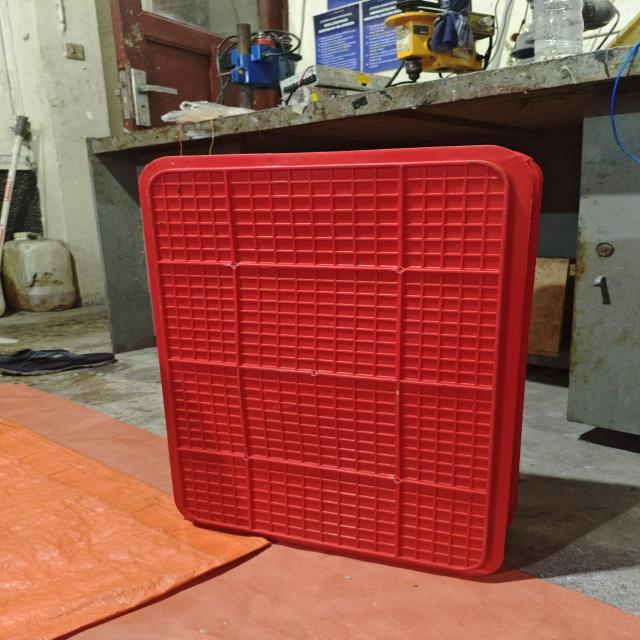red plastic box: (138, 145, 544, 577)
